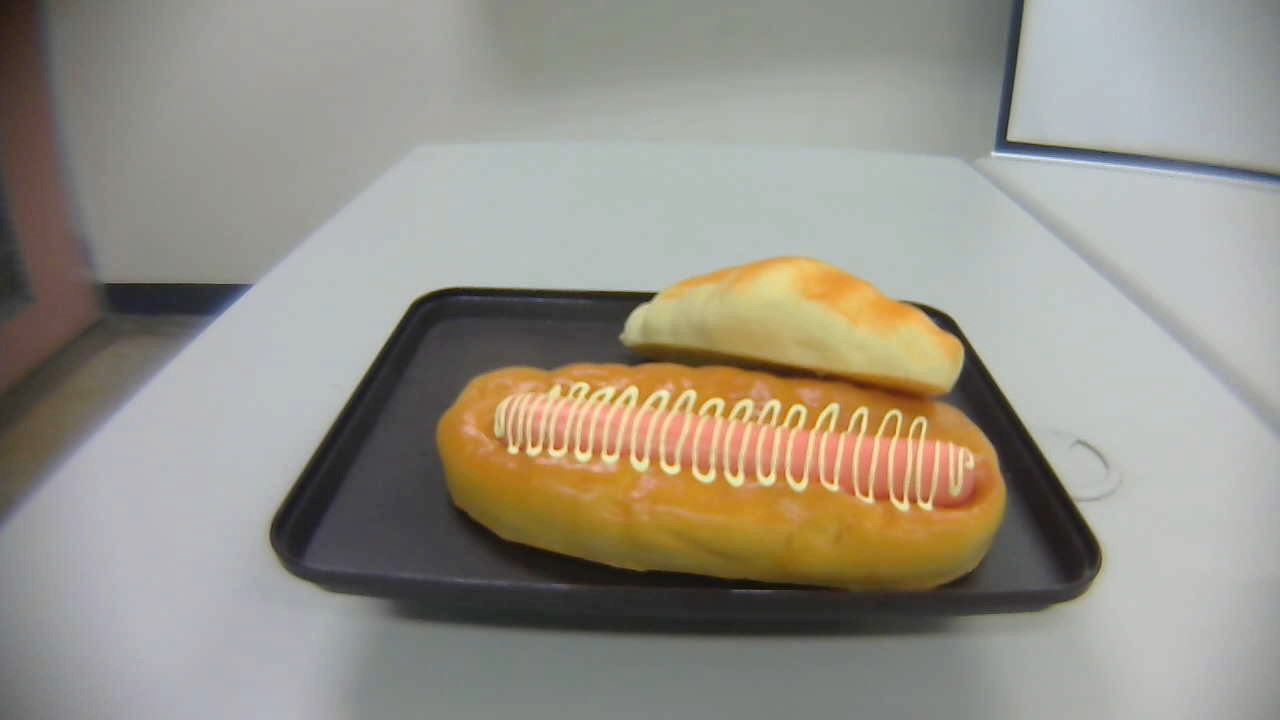croissant: (619, 254, 965, 397)
hot dog: (437, 362, 1009, 593)
